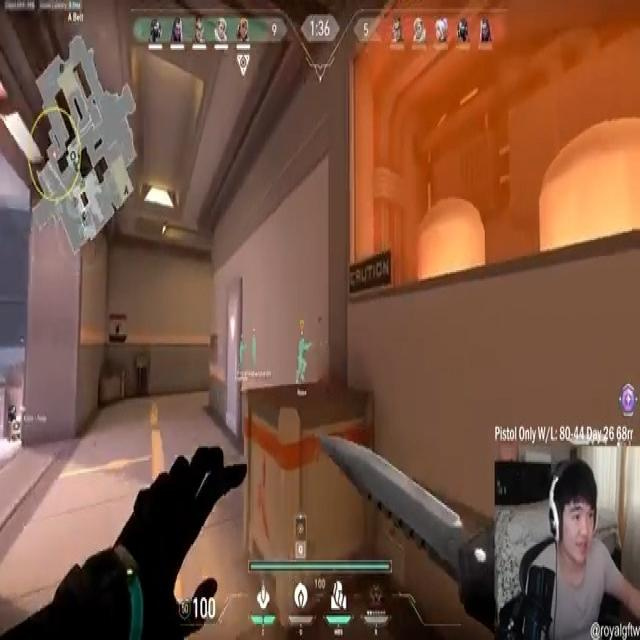ally behind wall: (294, 336, 314, 390), (250, 337, 259, 371), (238, 336, 244, 371)
